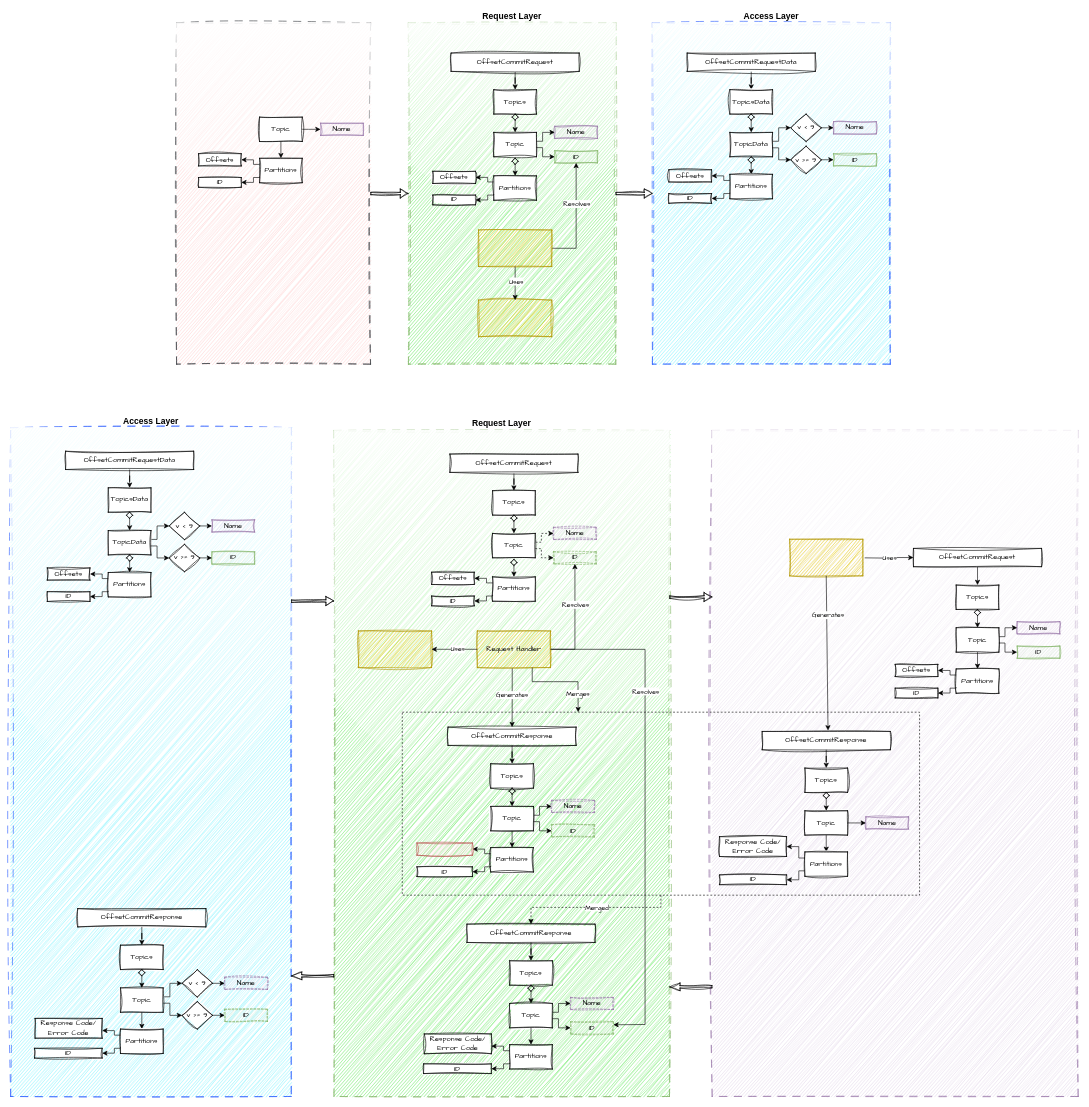
Some shapes in this 1089 by 1107 pixel diagram are drawn without their labels. The box of each missing label's shape, as (x1, y1, x2, y2) in pixels:
Cached Metadata: (358, 630, 432, 668)
Consumer API: (176, 22, 371, 364)
Consumer Coordinator: (478, 229, 552, 267)
Error Code: (416, 842, 472, 855)
Group Coordination: (712, 430, 1078, 1096)
Group Coordinator: (789, 539, 863, 576)
Metadata Snapshot: (478, 300, 552, 337)
